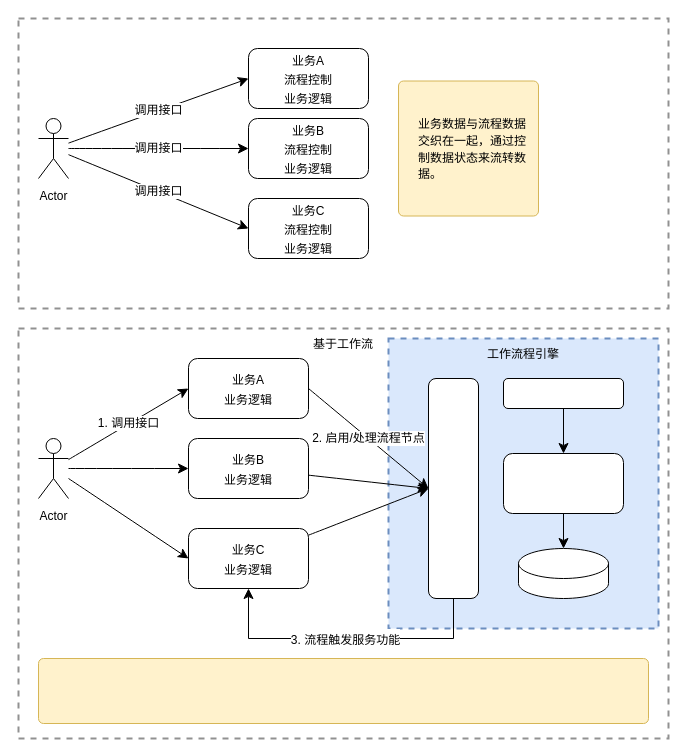
This 686x756 diagram has some shape labels left out. Here are the shapes that lost their labels. From the top down, the box of each, then its label:
(17, 17, 669, 309): 传统方式
(502, 378, 624, 408): 业务流程设计
(428, 378, 478, 598): 接口
(502, 452, 624, 514): BPMN 2.0流程设计
(518, 548, 608, 598): 流程数据
(38, 658, 648, 724): 业务专注于处理业务数据，流程引擎处理流程数据。基于流程对业务功能的编排，处理业务异常，流程与流程之间的关系。时时刻刻都能直观的表达业务的形态。
